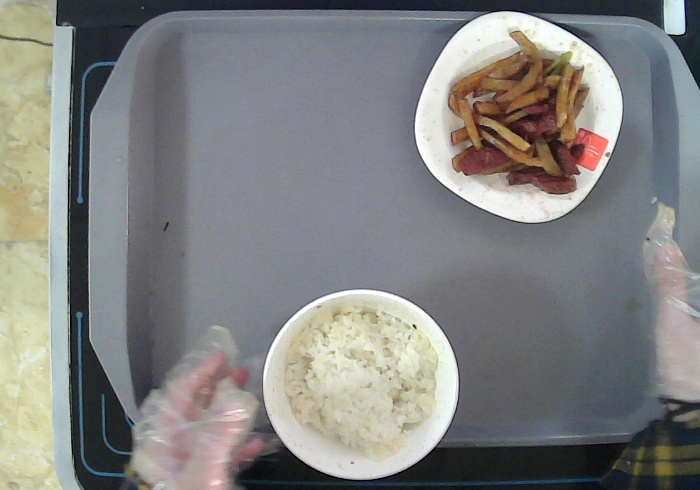SHKJ-Bai_Se_Si_Fang_Cai_Die: (414, 11, 625, 224)
SHKJ-Fan_Wan: (263, 289, 459, 480)
